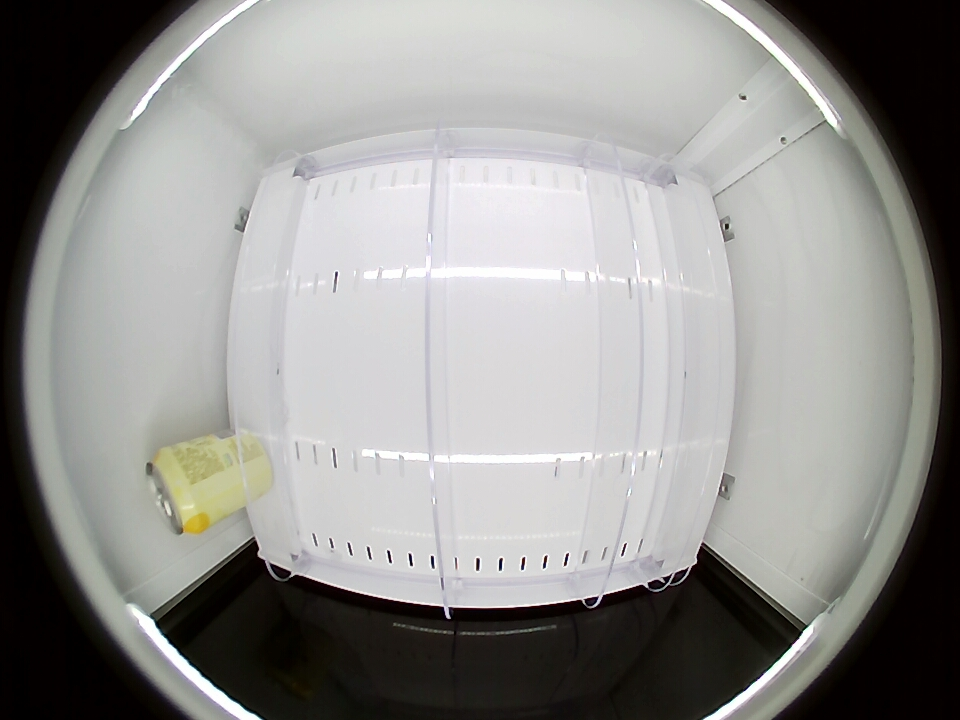mangguoxiaolao: (146, 445, 210, 536)
